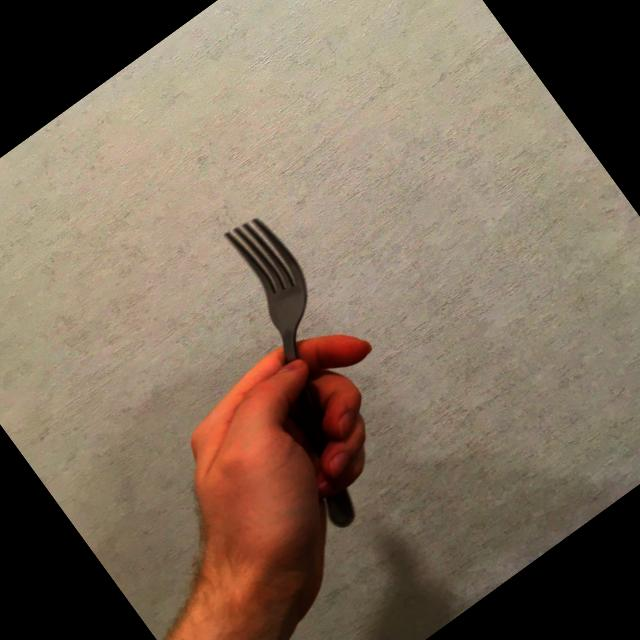fork: (154, 208, 440, 534)
